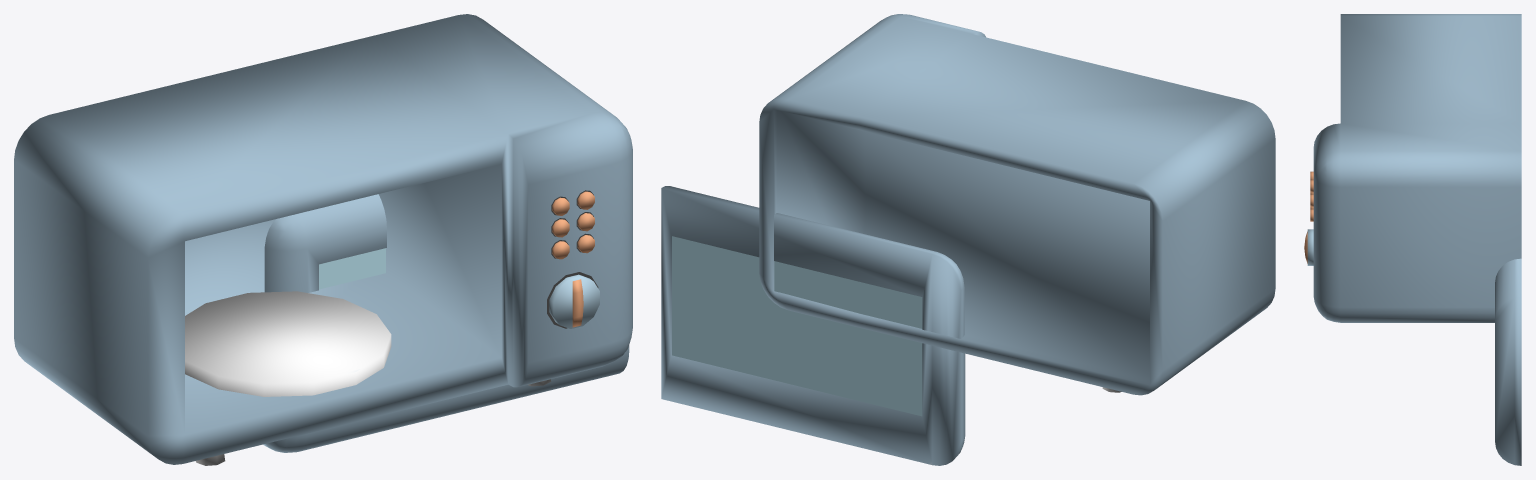
The model's file is Microwave.fbx.
3 renders of one model, left to right at view 1: azimuth 30°, elevation 25°; view 2: azimuth 150°, elevation 25°; view 3: azimuth 270°, elevation 25°, orthographic. The views are drawn at different scales.
Parts seen in each view (by area): view 1: Microwave, Microwave.Door; view 2: Microwave, Microwave.Door; view 3: Microwave, Microwave.Door.
Part boxes in pixels (x1,y1,x2,y2): Microwave: [14, 14, 632, 465]; Microwave.Door: [263, 194, 629, 452]; Microwave: [759, 14, 1275, 395]; Microwave.Door: [661, 186, 965, 465]; Microwave: [1304, 14, 1521, 322]; Microwave.Door: [1495, 258, 1521, 465].
Bounding box in the file's own units: 93.82 × 59.15 × 43.92.
